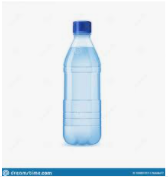Bottle: (64, 20, 101, 146)
